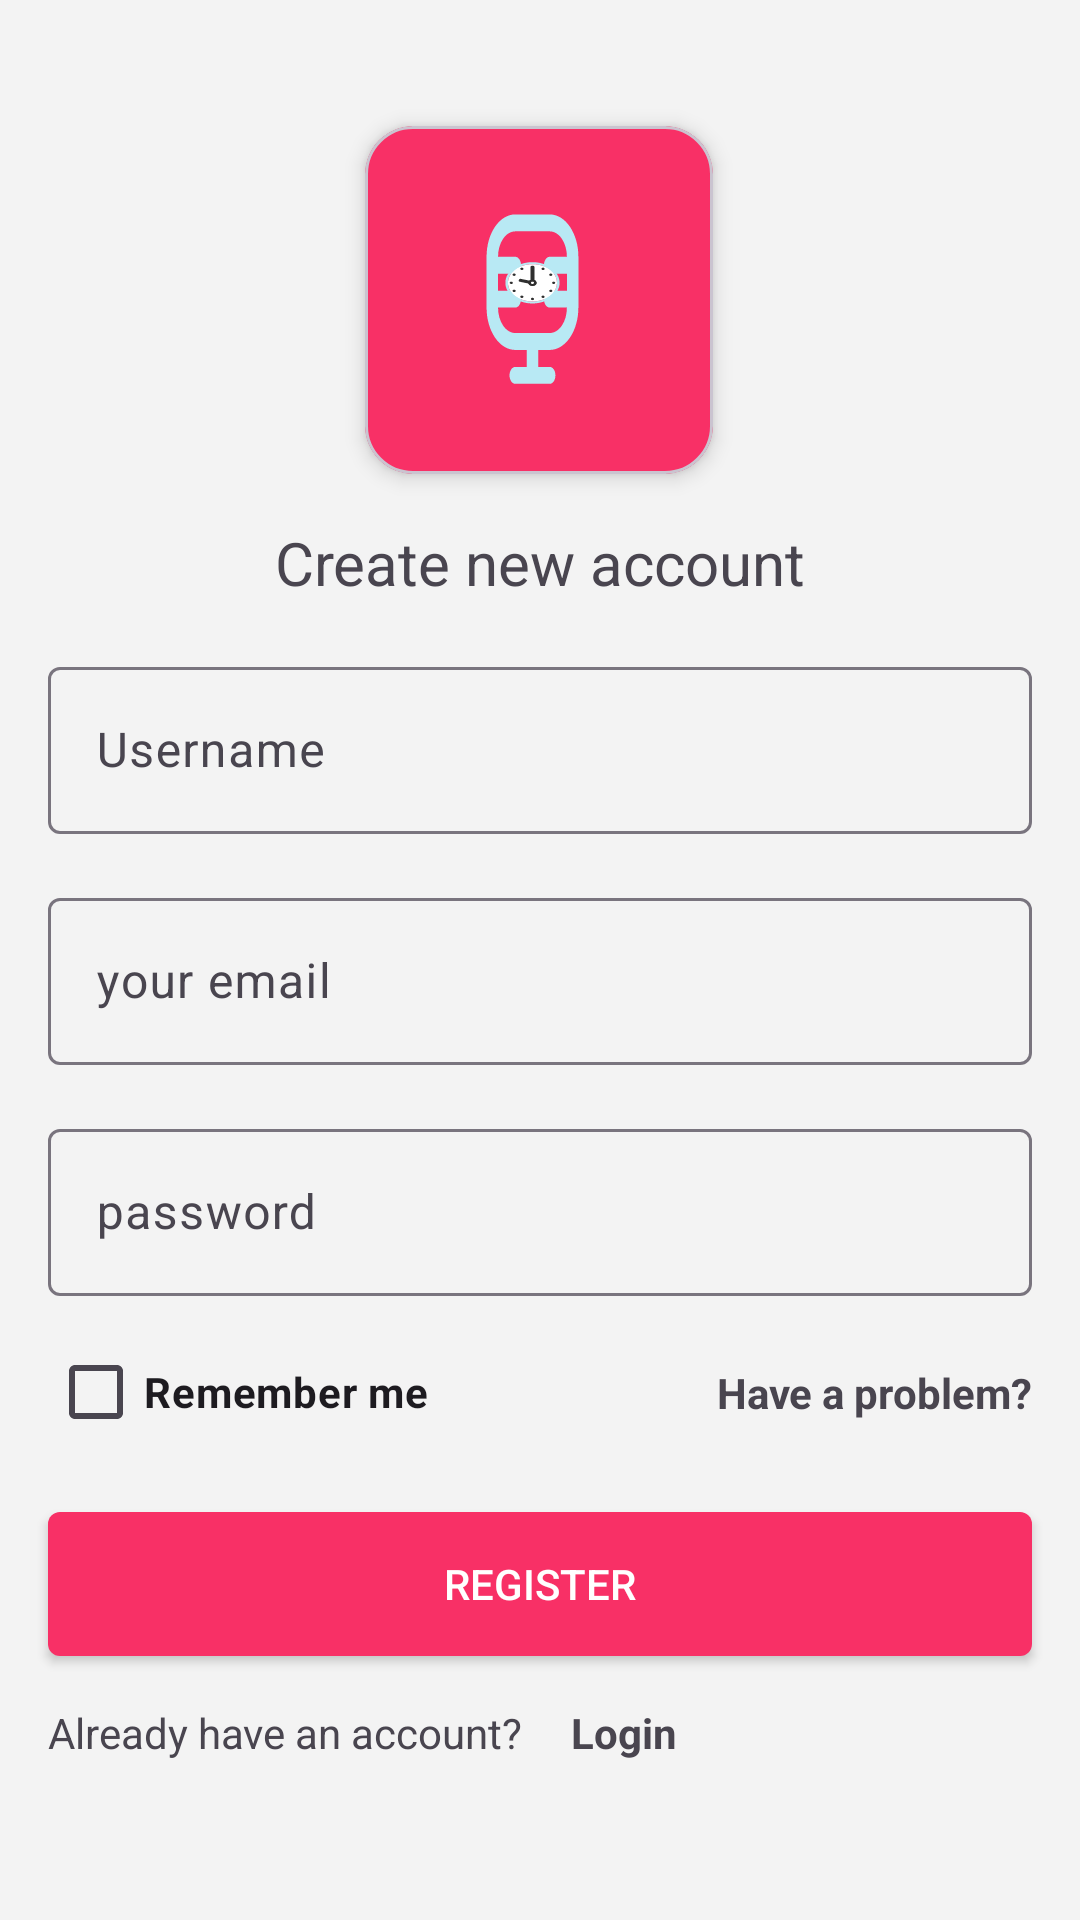

Icons on this 1080x1920 Android screen, each with the point to tap as point (x, y):
podcast: point (539, 300)
